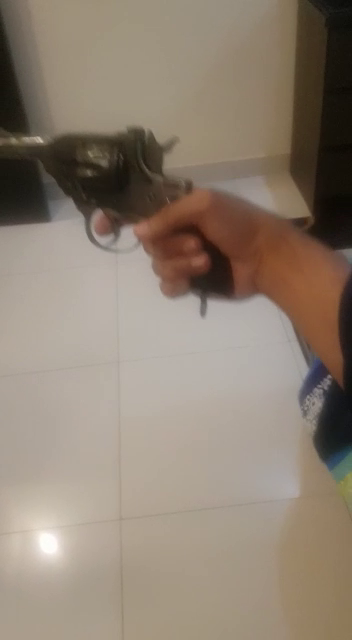handgun: (2, 107, 352, 378)
